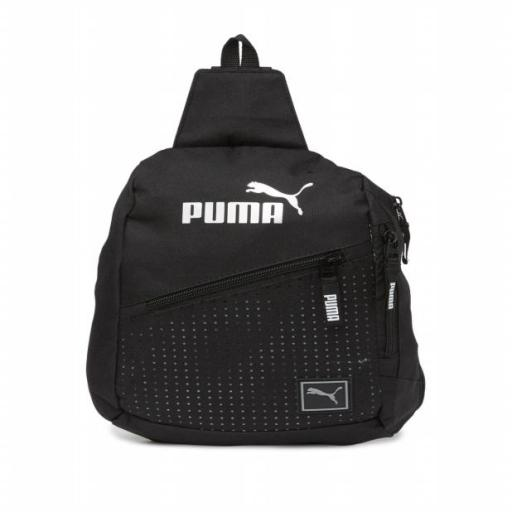Puma: (182, 200, 286, 230), (243, 177, 318, 217), (301, 380, 349, 410), (322, 292, 342, 323), (385, 280, 397, 309)
